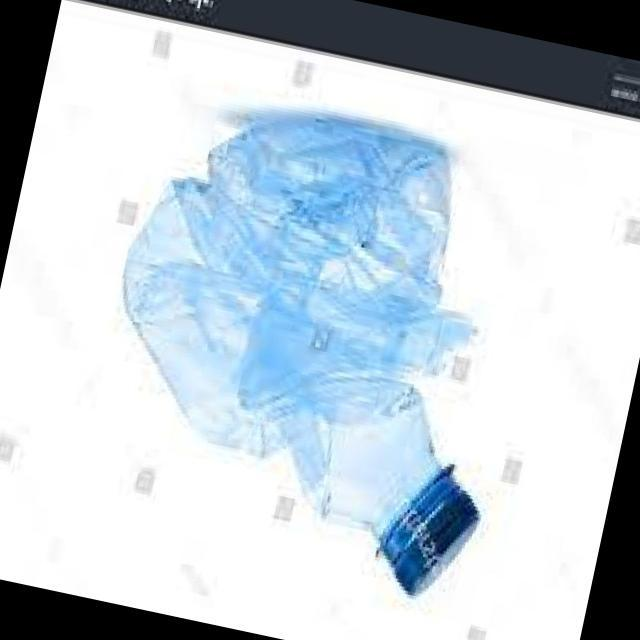defected: (67, 70, 564, 624)
